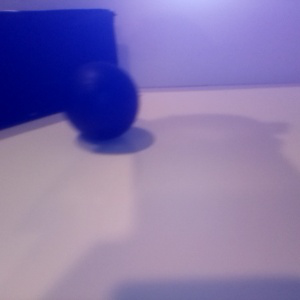dead_ball: (62, 60, 140, 139)
